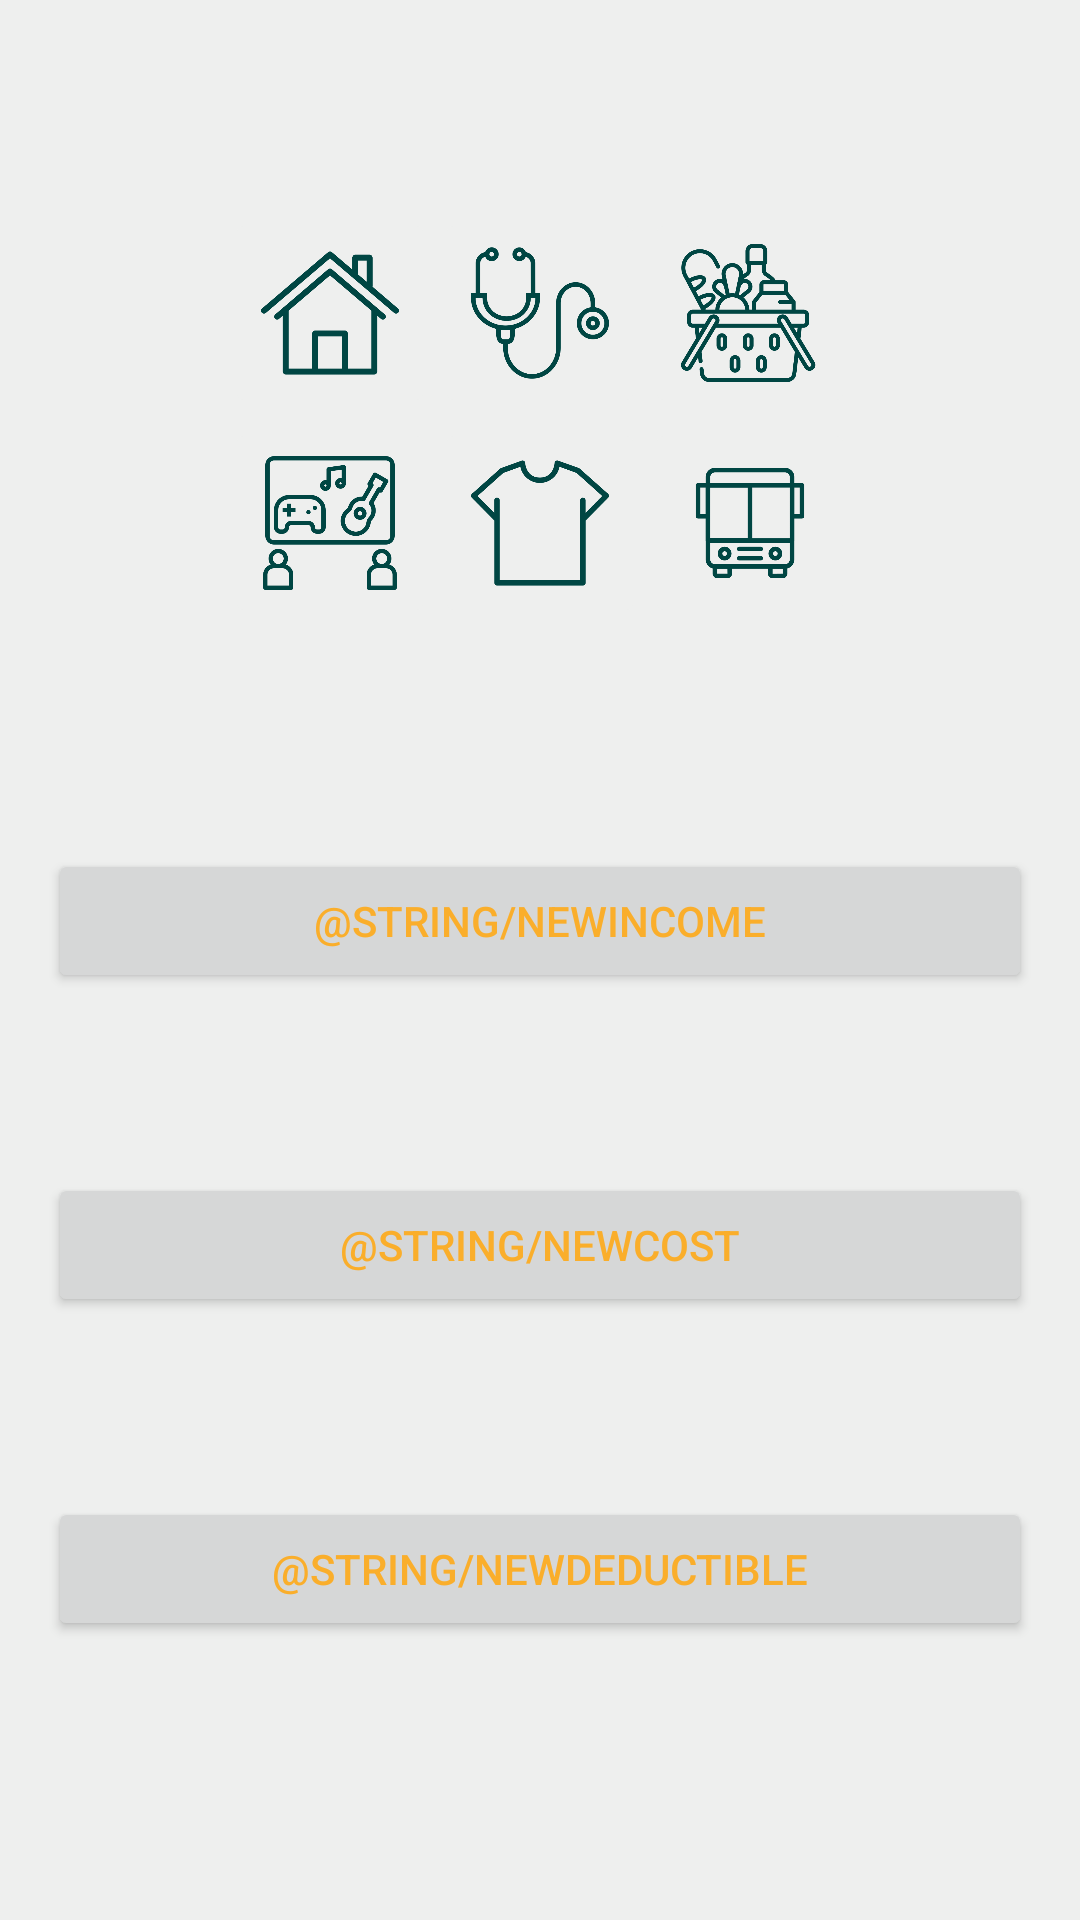

Screen size 1080×1920. Icon name, then its box in pixels as [x1, y1, x2, y2]:
Entretenimiento: [263, 456, 397, 590]
Health: [471, 247, 609, 379]
Hogar: [261, 251, 399, 375]
Mercado: [681, 244, 816, 382]
Ropa: [471, 460, 609, 586]
Transporte: [696, 468, 804, 578]
